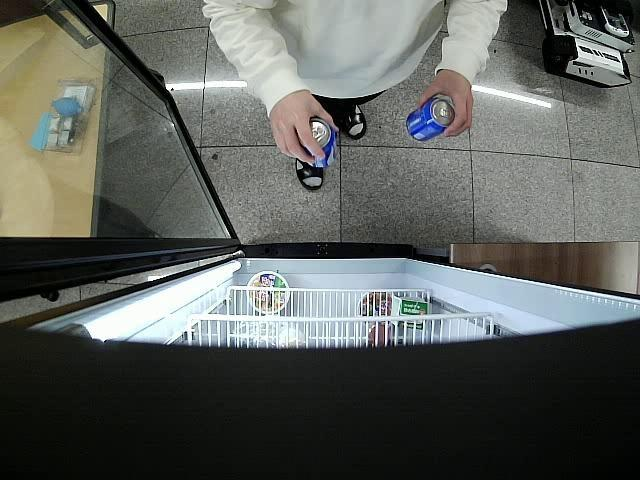13_pocariSweat: (406, 99, 455, 142), (299, 117, 338, 170)
